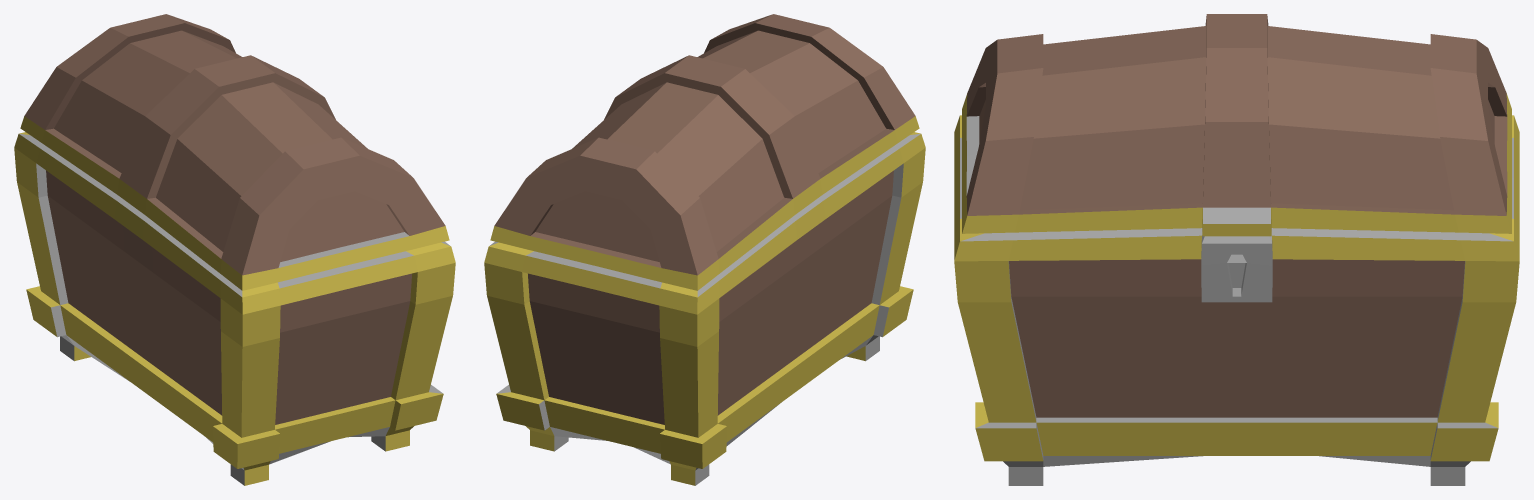
File: chest.fbx
3 renders of one model, left to right at view 1: azimuth 30°, elevation 25°; view 2: azimuth 150°, elevation 25°; view 3: azimuth 270°, elevation 25°, orthographic. The views are drawn at different scales.
Parts seen in each view (by area): view 1: pCylinder1; view 2: pCylinder1; view 3: pCylinder1.
Boxes of the visible parts, x1,y1,x2,y2 form: pCylinder1: (14,14,455,485); pCylinder1: (484,14,925,485); pCylinder1: (954,14,1519,485).
Bounding box in the file's own units: 2.71 × 3.79 × 4.79.
